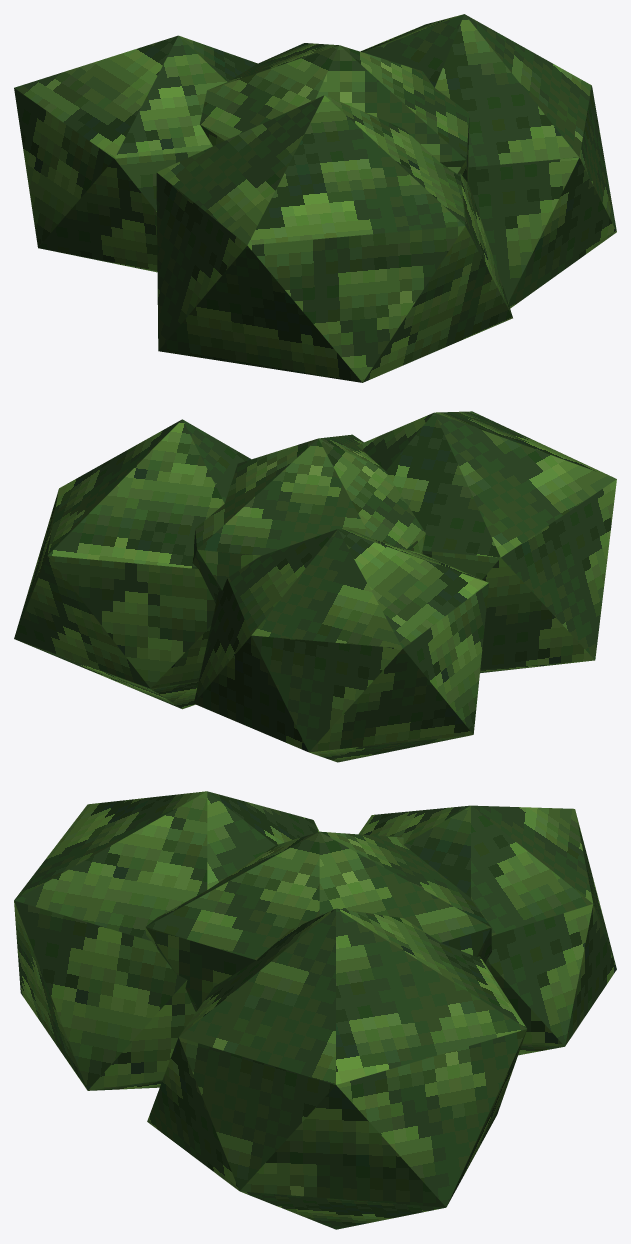
Rendered from arbusto_hojas.obj.
3 views of the same model, one above another, from view 1: azimuth 30°, elevation 25°; view 2: azimuth 150°, elevation 25°; view 3: azimuth 270°, elevation 25° (orthographic). The views are drawn at different scales.
Visible parts, largest first — view 1: arbusto_hojas; view 2: arbusto_hojas; view 3: arbusto_hojas.
Part boxes in pixels (x1=…): arbusto_hojas: x1=14, y1=14, x2=616, y2=382; arbusto_hojas: x1=14, y1=411, x2=616, y2=762; arbusto_hojas: x1=14, y1=791, x2=616, y2=1229.
Bounding box in the file's own units: 1.44 × 0.866 × 1.42.
1 material, 1 textured.
